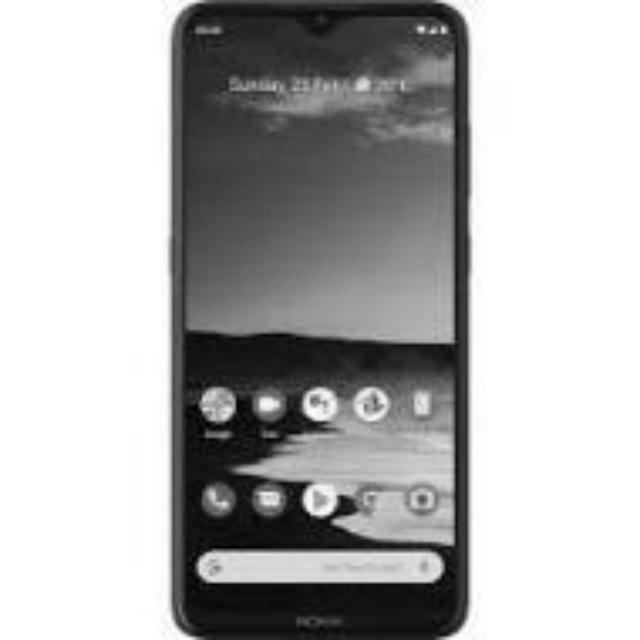fake: (163, 9, 483, 616)
